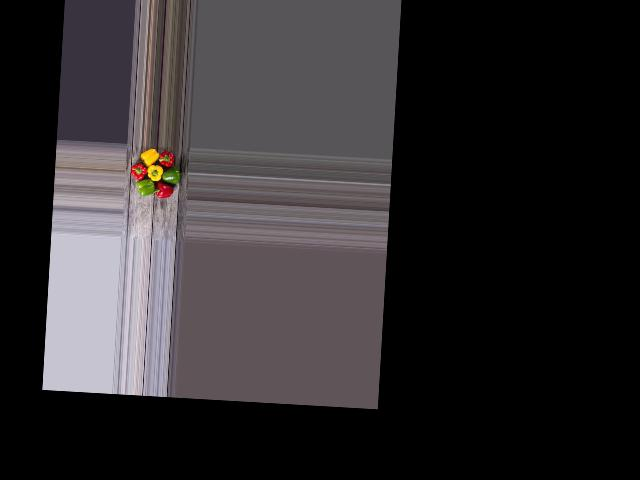bell_pepper: (155, 147, 175, 167)
